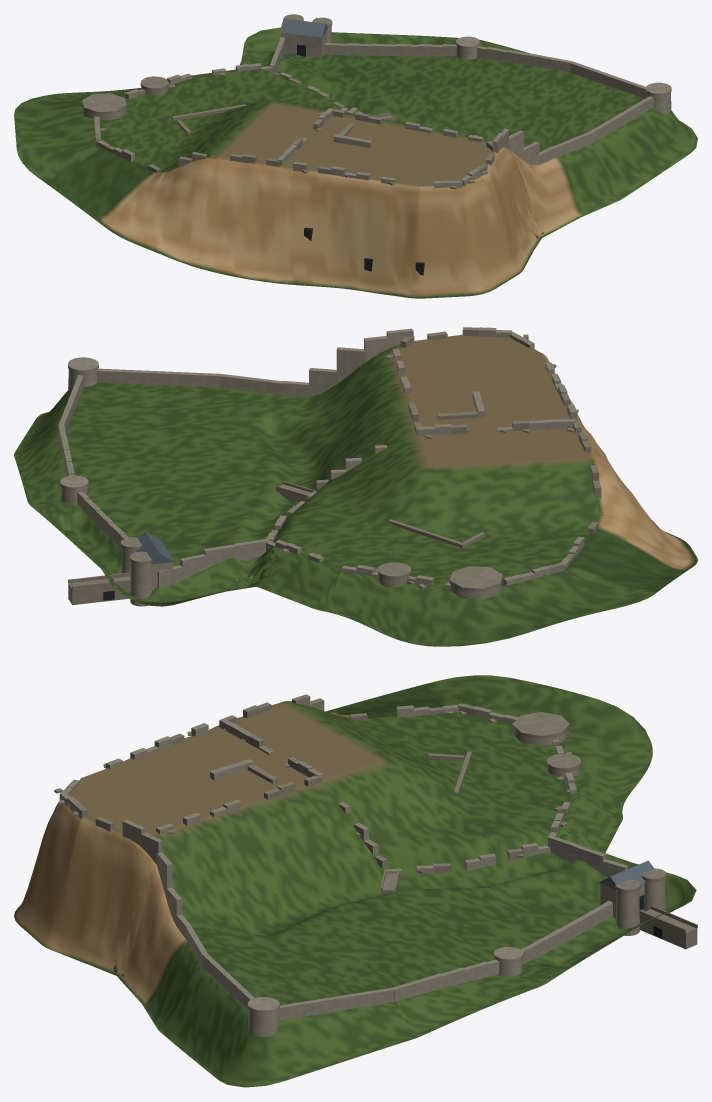
The model's file is nottingham-castle-b50.glb.
3 views of the same model, one above another, from view 1: azimuth 30°, elevation 25°; view 2: azimuth 150°, elevation 25°; view 3: azimuth 270°, elevation 25° (orthographic). The views are drawn at different scales.
Size of the model in its own units: 25.6 by 4.43 by 20.96.
5 materials, 2 textured.
